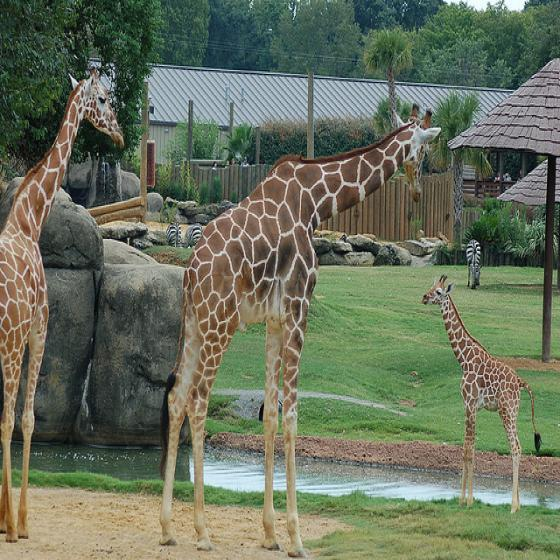giraffe: (159, 103, 442, 559), (0, 67, 125, 543), (421, 275, 542, 515)
zebra: (466, 240, 482, 289), (182, 223, 201, 250), (165, 220, 182, 247)
